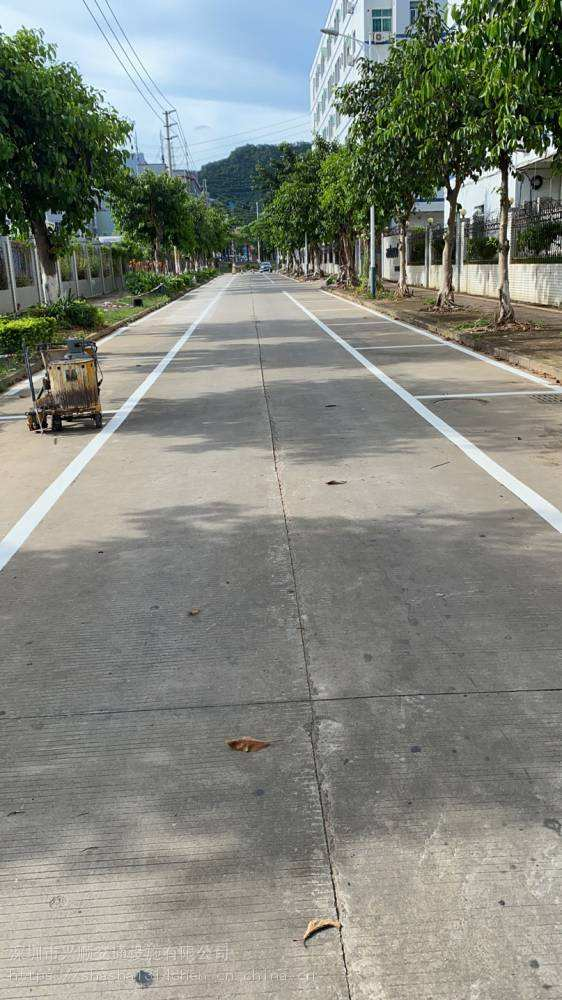slot_nocar: (394, 376, 562, 570), (331, 334, 562, 418), (300, 312, 453, 358), (95, 312, 204, 365), (279, 286, 380, 330)
